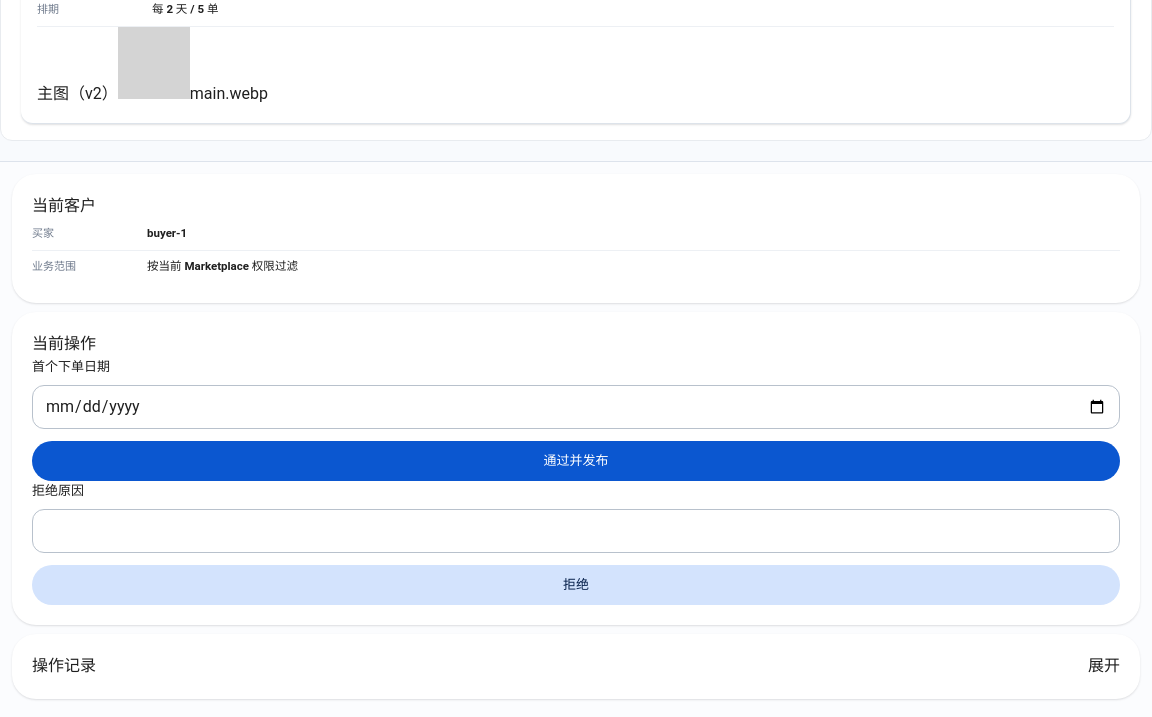
demand review panel › publishes a demand with its authoritative version, first date and idempotency key
(page scrolled)
Expected: the text "每 2 天 / 5 单" is shown, left=152, top=2, right=218, bottom=16
Type "2026-08-11" into the date field labelled "首个下单日期".
click(576, 407); type("2026-08-11")  # box left=32, top=385, right=1120, bottom=429
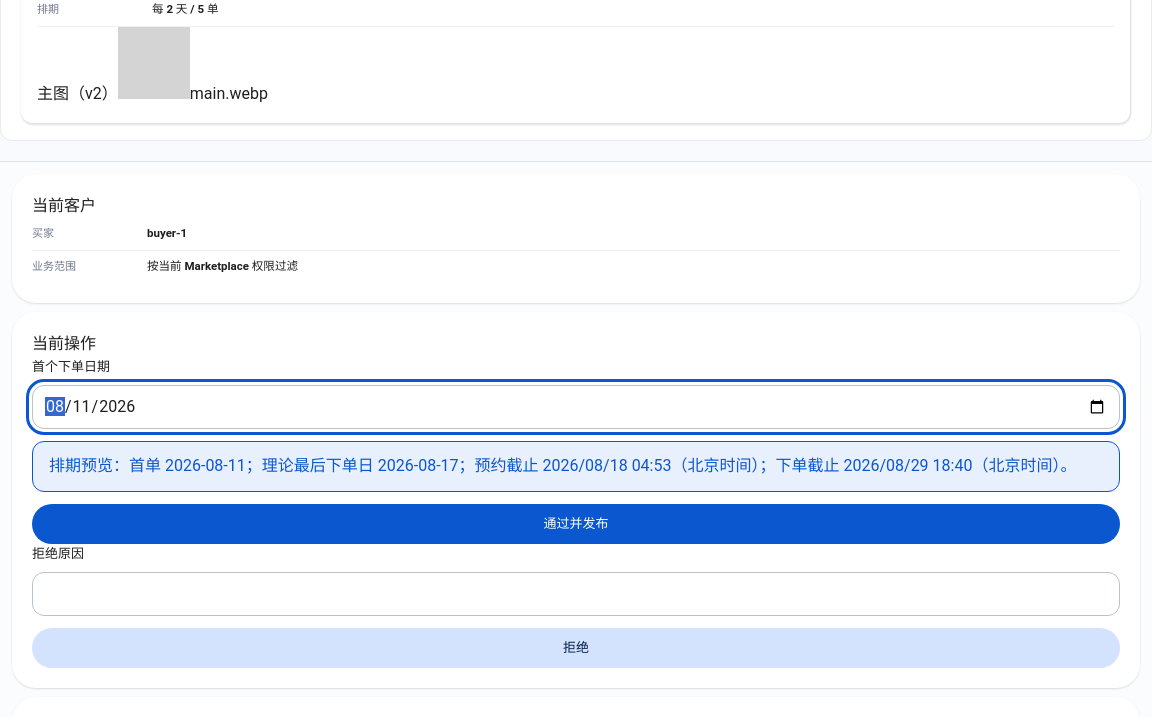
Click the button "通过并发布".
click(576, 524)  # box left=32, top=504, right=1120, bottom=544
(page scrolled)
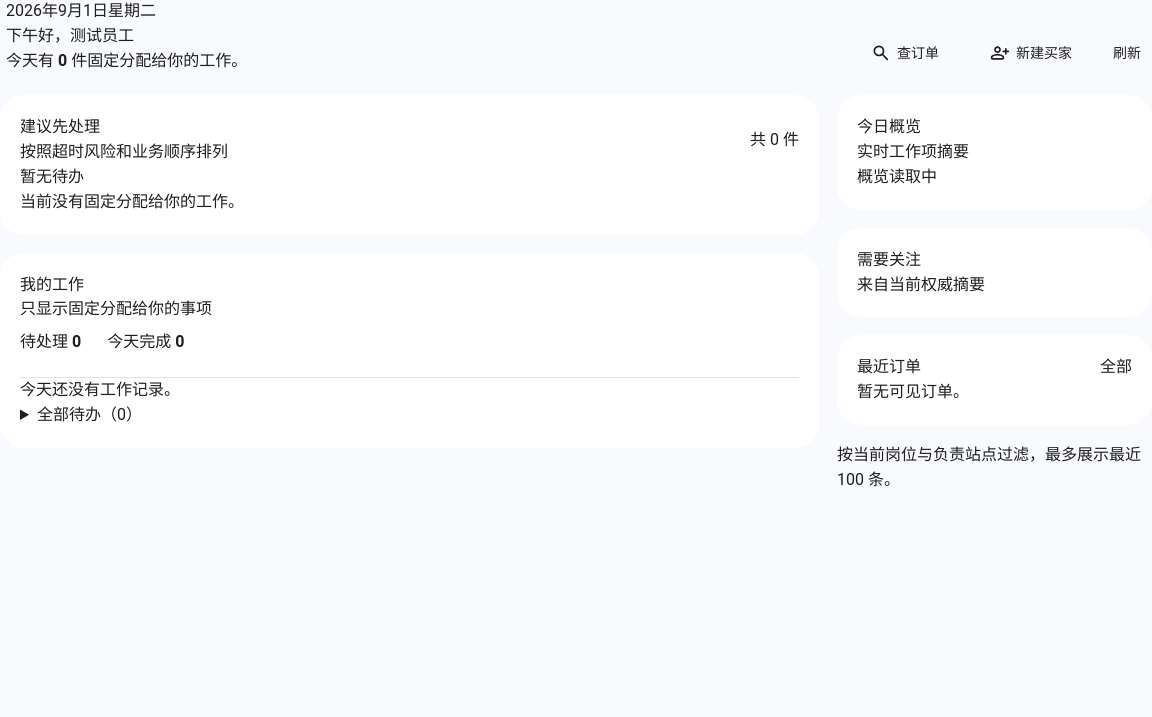
Expected: the heading "暂无待办" is shown, left=20, top=167, right=84, bottom=186
Expected: the button "通过并发布" is gone
